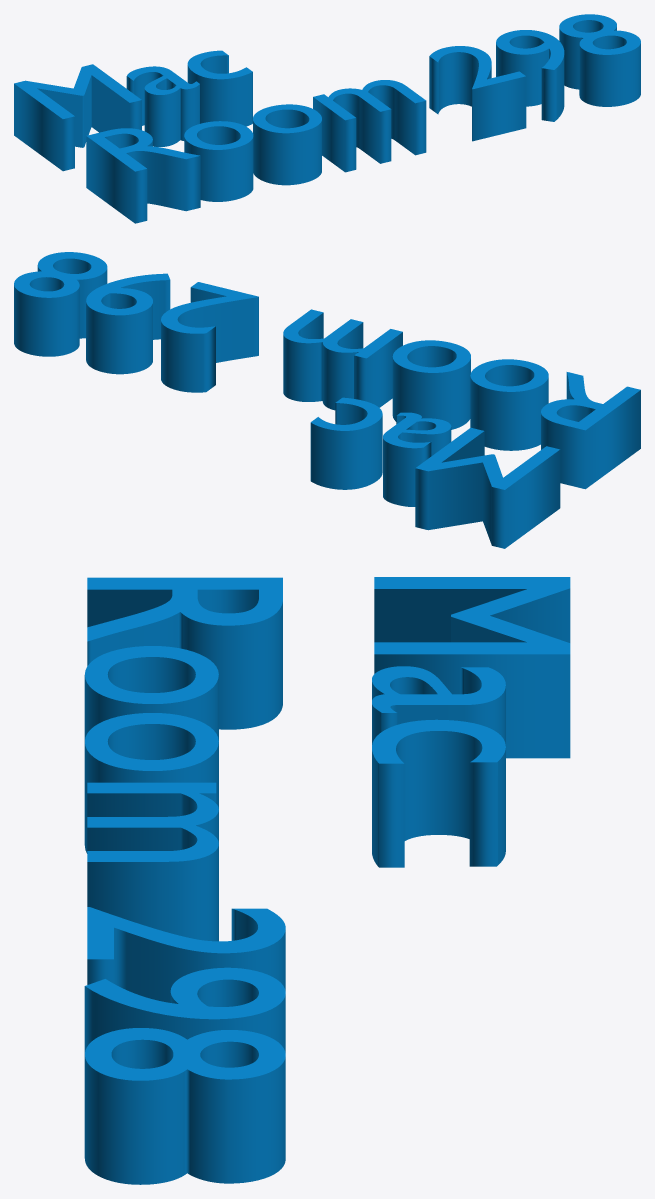
File: mac-298.gltf
3 views of the same model, one above another, from view 1: azimuth 30°, elevation 25°; view 2: azimuth 150°, elevation 25°; view 3: azimuth 270°, elevation 25° (orthographic). The views are drawn at different scales.
Parts seen in each view (by area): view 1: Text; view 2: Text; view 3: Text.
Part boxes in pixels (box(x1,y1,x2,y2)): Text: box(14, 14, 640, 223); Text: box(14, 252, 640, 548); Text: box(84, 577, 570, 1184).
Bounding box in the file's own units: 4.15 × 0.4 × 1.69.
